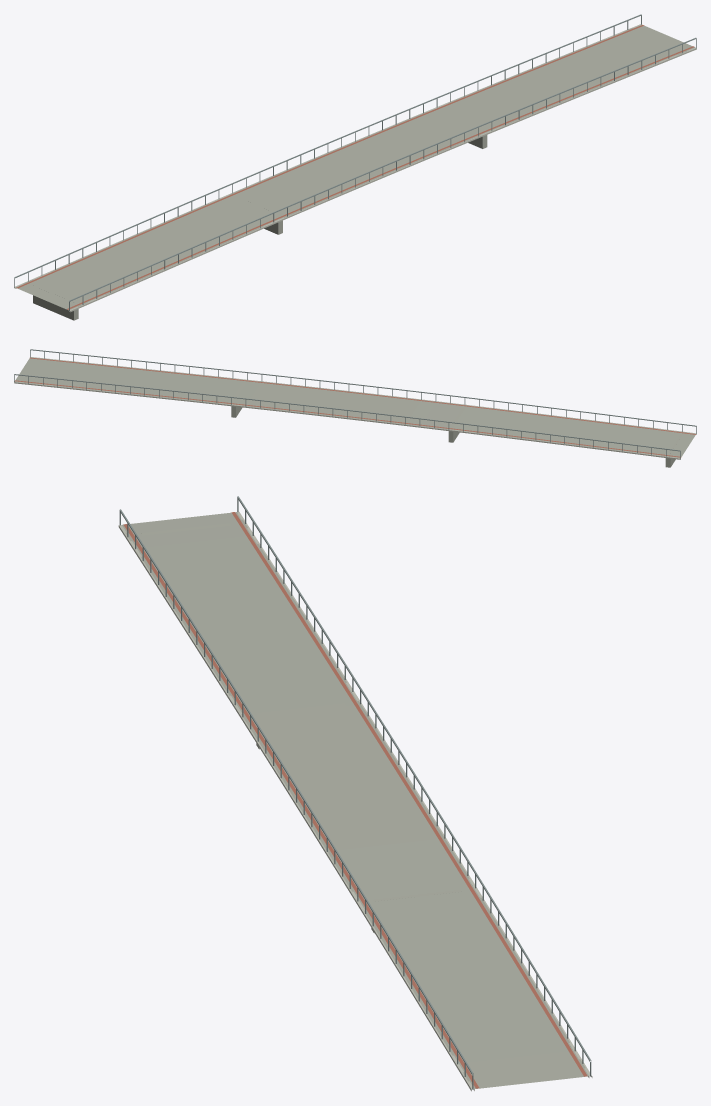
File: infra-lake-bridge-822812181.glb
The picture shows the model from 3 angles, top to bottom: view 1: azimuth 30°, elevation 25°; view 2: azimuth 150°, elevation 25°; view 3: azimuth 270°, elevation 25°; orthographic projection. The views are drawn at different scales.
Visible parts, largest first — view 1: infra-lake-bridge-822812181; view 2: infra-lake-bridge-822812181; view 3: infra-lake-bridge-822812181.
Part boxes in pixels (x1,y1,x2,y2): infra-lake-bridge-822812181: [14, 14, 696, 320]; infra-lake-bridge-822812181: [14, 349, 696, 467]; infra-lake-bridge-822812181: [118, 496, 592, 1091].
Bounding box in the file's own units: 89.92 × 3.48 × 31.12.
